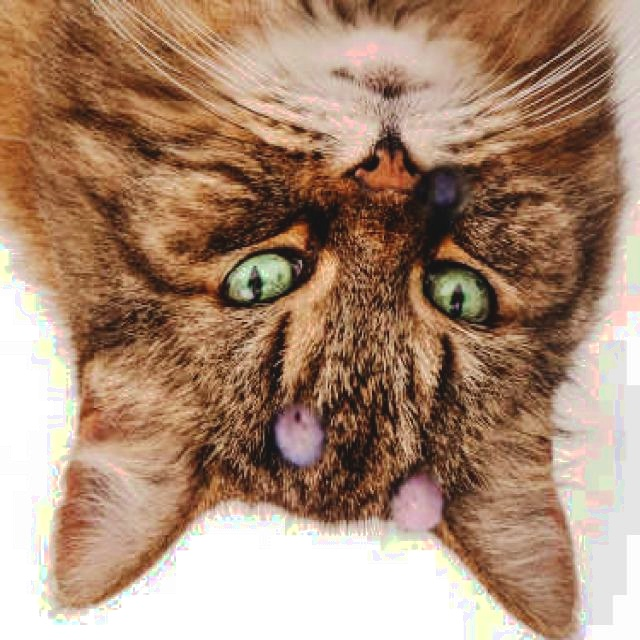lump_and_bump: (390, 465, 442, 537), (278, 399, 320, 468), (419, 170, 457, 210)
